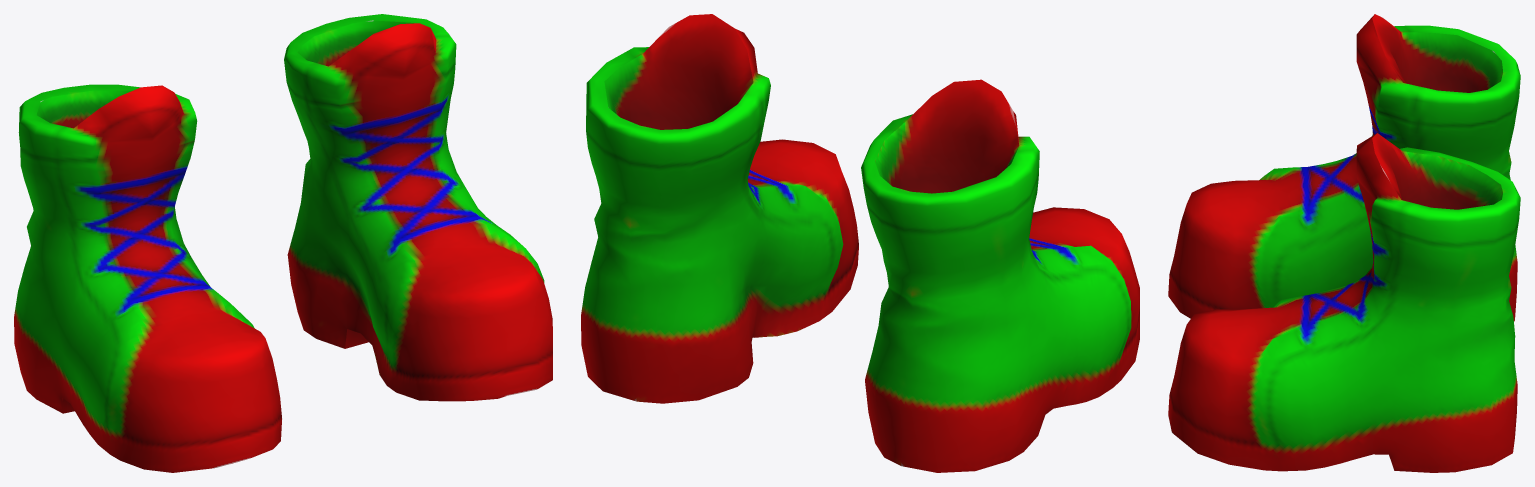
Rendered from BSMC_Outfit_Feet_WorkBoots.obj.
3 renders of one model, left to right at view 1: azimuth 30°, elevation 25°; view 2: azimuth 150°, elevation 25°; view 3: azimuth 270°, elevation 25°, orthographic. The views are drawn at different scales.
Visible parts, largest first — view 1: BSMC_Outfit_Feet_WorkBoots_0; view 2: BSMC_Outfit_Feet_WorkBoots_0; view 3: BSMC_Outfit_Feet_WorkBoots_0.
Boxes of the visible parts, x1,y1,x2,y2 form: BSMC_Outfit_Feet_WorkBoots_0: (14,14,552,472); BSMC_Outfit_Feet_WorkBoots_0: (581,14,1139,472); BSMC_Outfit_Feet_WorkBoots_0: (1168,14,1520,472).
Size of the model in its own units: 0.356 by 0.2531 by 0.2633.
Materials: 1 (1 with a texture image).
